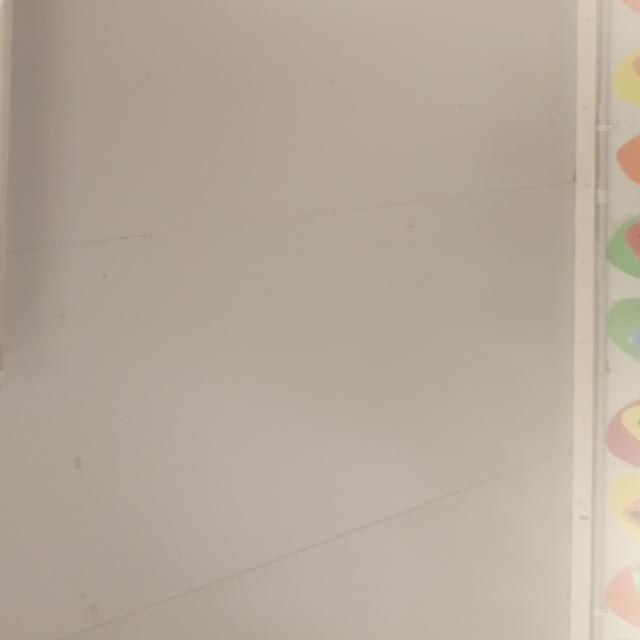fluorescent tube: (0, 0, 85, 416)
